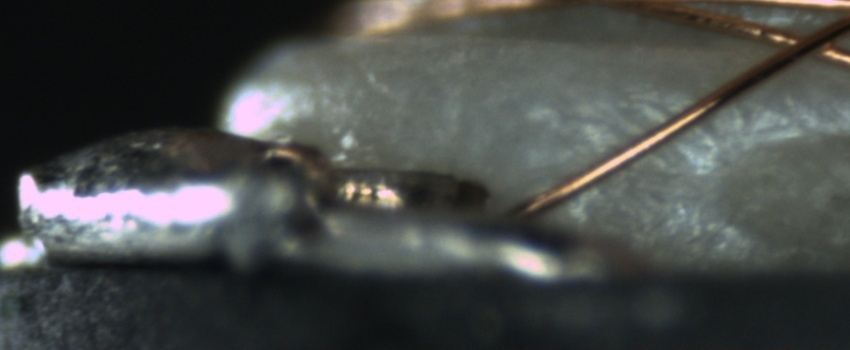CL: (760, 17, 848, 70)
TE: (264, 137, 331, 188)
